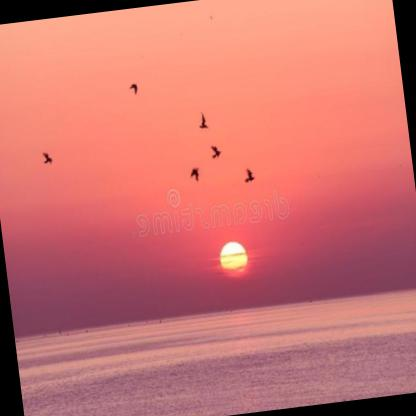bird: (178, 159, 206, 194), (232, 161, 262, 193), (31, 146, 62, 169), (121, 72, 144, 102), (205, 136, 225, 166), (191, 112, 211, 132)
